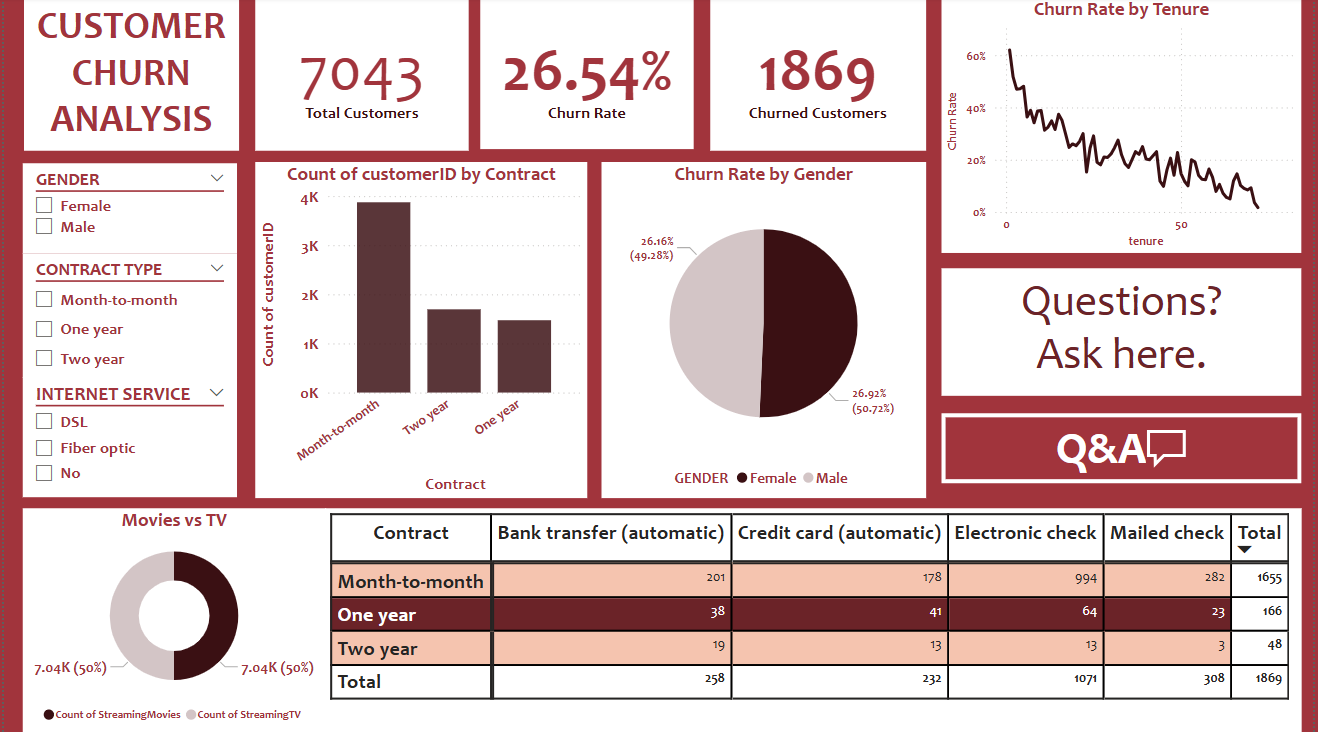

What the dashboard file says about the page in this screenshot:
{"tool":"powerbi","page":{"name":"Customer Churn","canvas":[1280,720],"ordinal":0},"visuals":[{"type":"card","fields":{"Values":["TelcoCustomer.Total Customers"]},"box":[245.8,0,209.1,150.4],"z":0},{"type":"textbox","box":[19,0,210,150],"z":1000},{"type":"card","fields":{"Values":["TelcoCustomer.Churn Rate"]},"box":[465.9,0,209.1,149.2],"z":2000},{"type":"card","fields":{"Values":["TelcoCustomer.Churned Customers"]},"box":[691,0,210.9,150.1],"z":3000},{"type":"slicer","fields":{"Values":["TelcoCustomer.gender"]},"box":[18.6,162.5,209.7,88.1],"z":4000},{"type":"slicer","fields":{"Values":["TelcoCustomer.Contract"]},"box":[18.6,250.6,209.7,121.6],"z":5000},{"type":"slicer","fields":{"Values":["TelcoCustomer.InternetService"]},"box":[18.6,372.2,209.7,117.9],"z":6000},{"type":"columnChart","fields":{"Category":["TelcoCustomer.Contract"],"Y":["CountNonNull(TelcoCustomer.customerID)"]},"box":[245.6,161.3,325,328.7],"z":7000},{"type":"pieChart","title":"Churn Rate by Gender","fields":{"Category":["TelcoCustomer.gender"],"Y":["TelcoCustomer.Churn Rate"]},"box":[584.3,161.3,317.6,328.7],"z":8000},{"type":"lineChart","title":"Churn Rate by Tenure","fields":{"Category":["TelcoCustomer.tenure"],"Y":["TelcoCustomer.Churn Rate"]},"box":[917.1,0,352.2,250.7],"z":9000},{"type":"donutChart","title":"Movies vs TV","fields":{"Y":["CountNonNull(TelcoCustomer.StreamingMovies)","CountNonNull(TelcoCustomer.StreamingTV)"]},"box":[18.6,499.9,296.5,219.6],"z":10000},{"type":"pivotTable","fields":{"Rows":["TelcoCustomer.Contract"],"Columns":["TelcoCustomer.PaymentMethod"],"Values":["TelcoCustomer.Churned Customers"]},"box":[314.3,500.1,955,220.1],"z":11000},{"type":"textbox","box":[917.1,265.4,352.2,124.7],"z":11001},{"type":"actionButton","box":[917.1,407.2,352.2,68.5],"z":11002}]}

Visuals, with their boxes in screenshot pixels (x1, y1, x2, y2), scaled from the page's 1280x720 canvas onto the 1318x732 screenshot:
card - TelcoCustomer.Total Customers: x1=253 y1=0 x2=468 y2=153
textbox: x1=20 y1=0 x2=236 y2=152
card - TelcoCustomer.Churn Rate: x1=480 y1=0 x2=695 y2=152
card - TelcoCustomer.Churned Customers: x1=712 y1=0 x2=929 y2=153
slicer - TelcoCustomer.gender: x1=19 y1=165 x2=235 y2=255
slicer - TelcoCustomer.Contract: x1=19 y1=255 x2=235 y2=378
slicer - TelcoCustomer.InternetService: x1=19 y1=378 x2=235 y2=498
columnChart - TelcoCustomer.Contract x CountNonNull(TelcoCustomer.customerID): x1=253 y1=164 x2=588 y2=498
"Churn Rate by Gender" pieChart: x1=602 y1=164 x2=929 y2=498
"Churn Rate by Tenure" lineChart: x1=944 y1=0 x2=1307 y2=255
"Movies vs TV" donutChart: x1=19 y1=508 x2=324 y2=731
pivotTable - TelcoCustomer.Contract x TelcoCustomer.PaymentMethod: x1=324 y1=508 x2=1307 y2=731
textbox: x1=944 y1=270 x2=1307 y2=397
actionButton: x1=944 y1=414 x2=1307 y2=484
